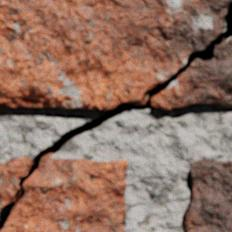brick: (184, 157, 231, 231)
broken_brick: (0, 0, 231, 109), (0, 157, 128, 231), (151, 38, 231, 109), (0, 156, 32, 211)
crack: (0, 2, 231, 230)
